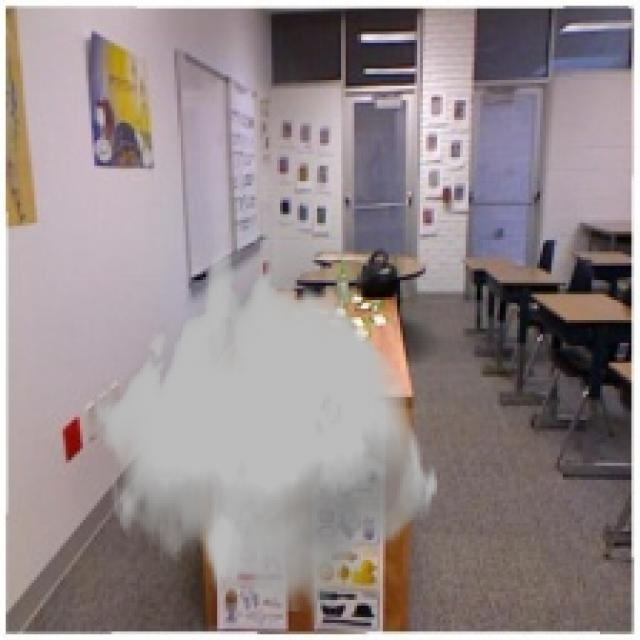smoke: (94, 257, 440, 612)
